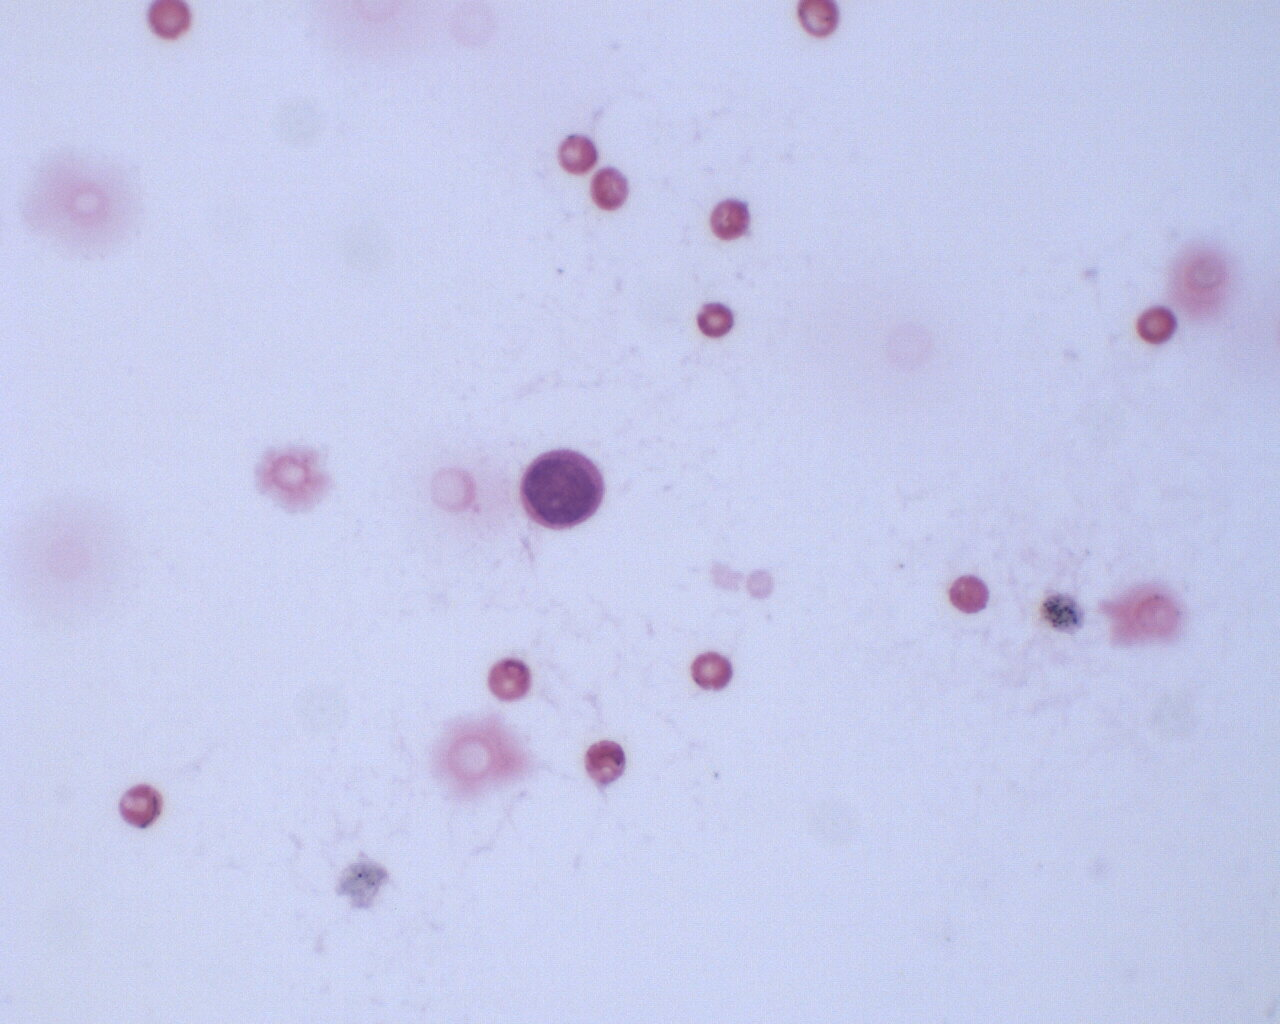ab: (518, 442, 611, 538)
